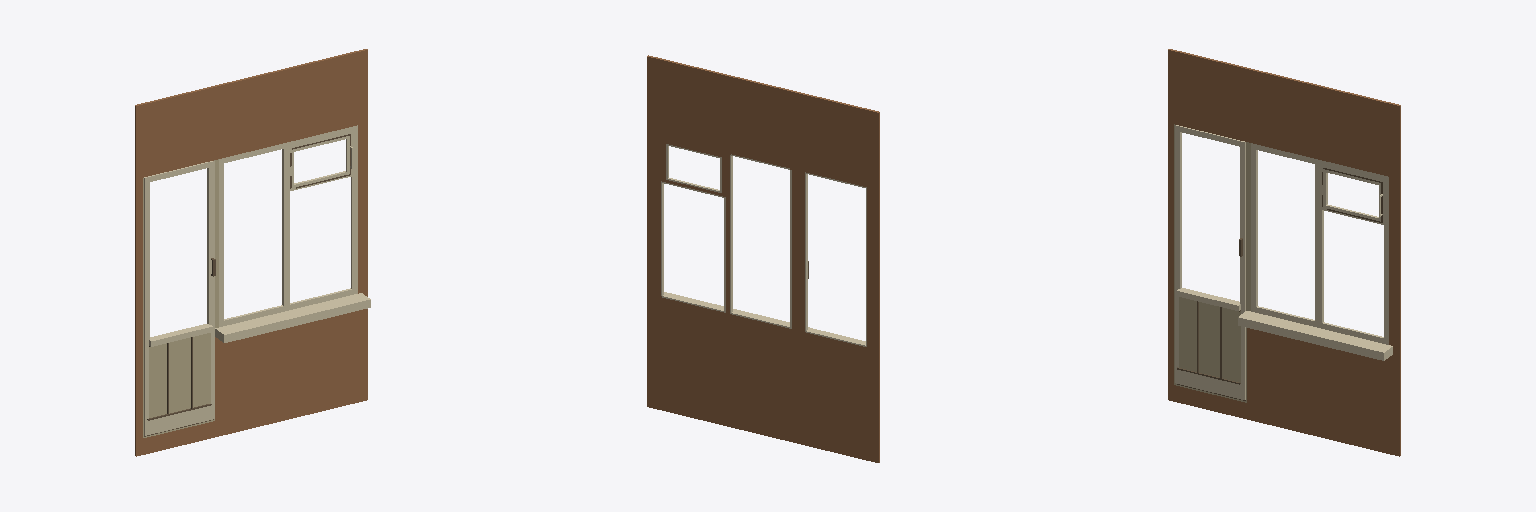
3 renders of one model, left to right at view 1: azimuth 30°, elevation 25°; view 2: azimuth 150°, elevation 25°; view 3: azimuth 330°, elevation 25°, orthographic.
Parts seen in each view (by area): view 1: object 1; view 2: object 1; view 3: object 1.
Boxes of the visible parts, box(x1,y1,x2,y2) form: object 1: box(135, 49, 370, 456); object 1: box(647, 55, 879, 462); object 1: box(1168, 49, 1400, 456).
Bounding box in the file's own units: 17.6 × 25.4 × 1.4.
Materials: 1 (1 with a texture image).